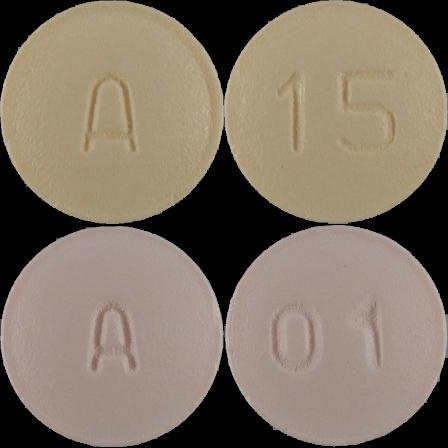16714-681: (0, 0, 224, 224)
